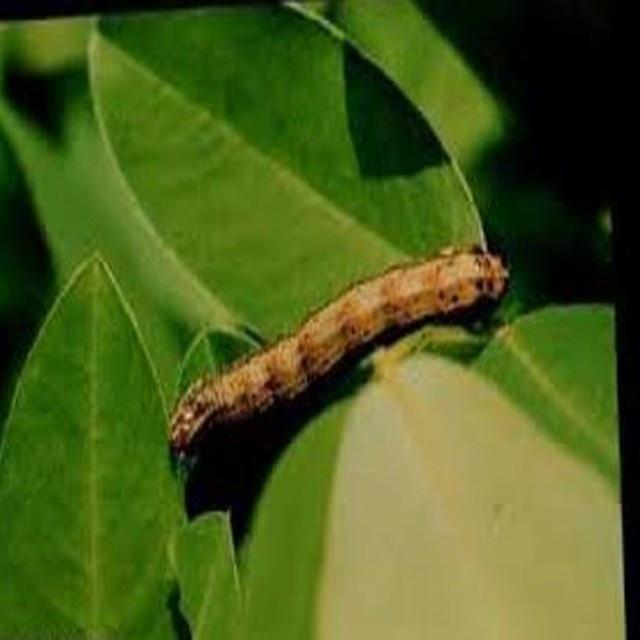gusano_cogollero: (162, 242, 514, 458)
